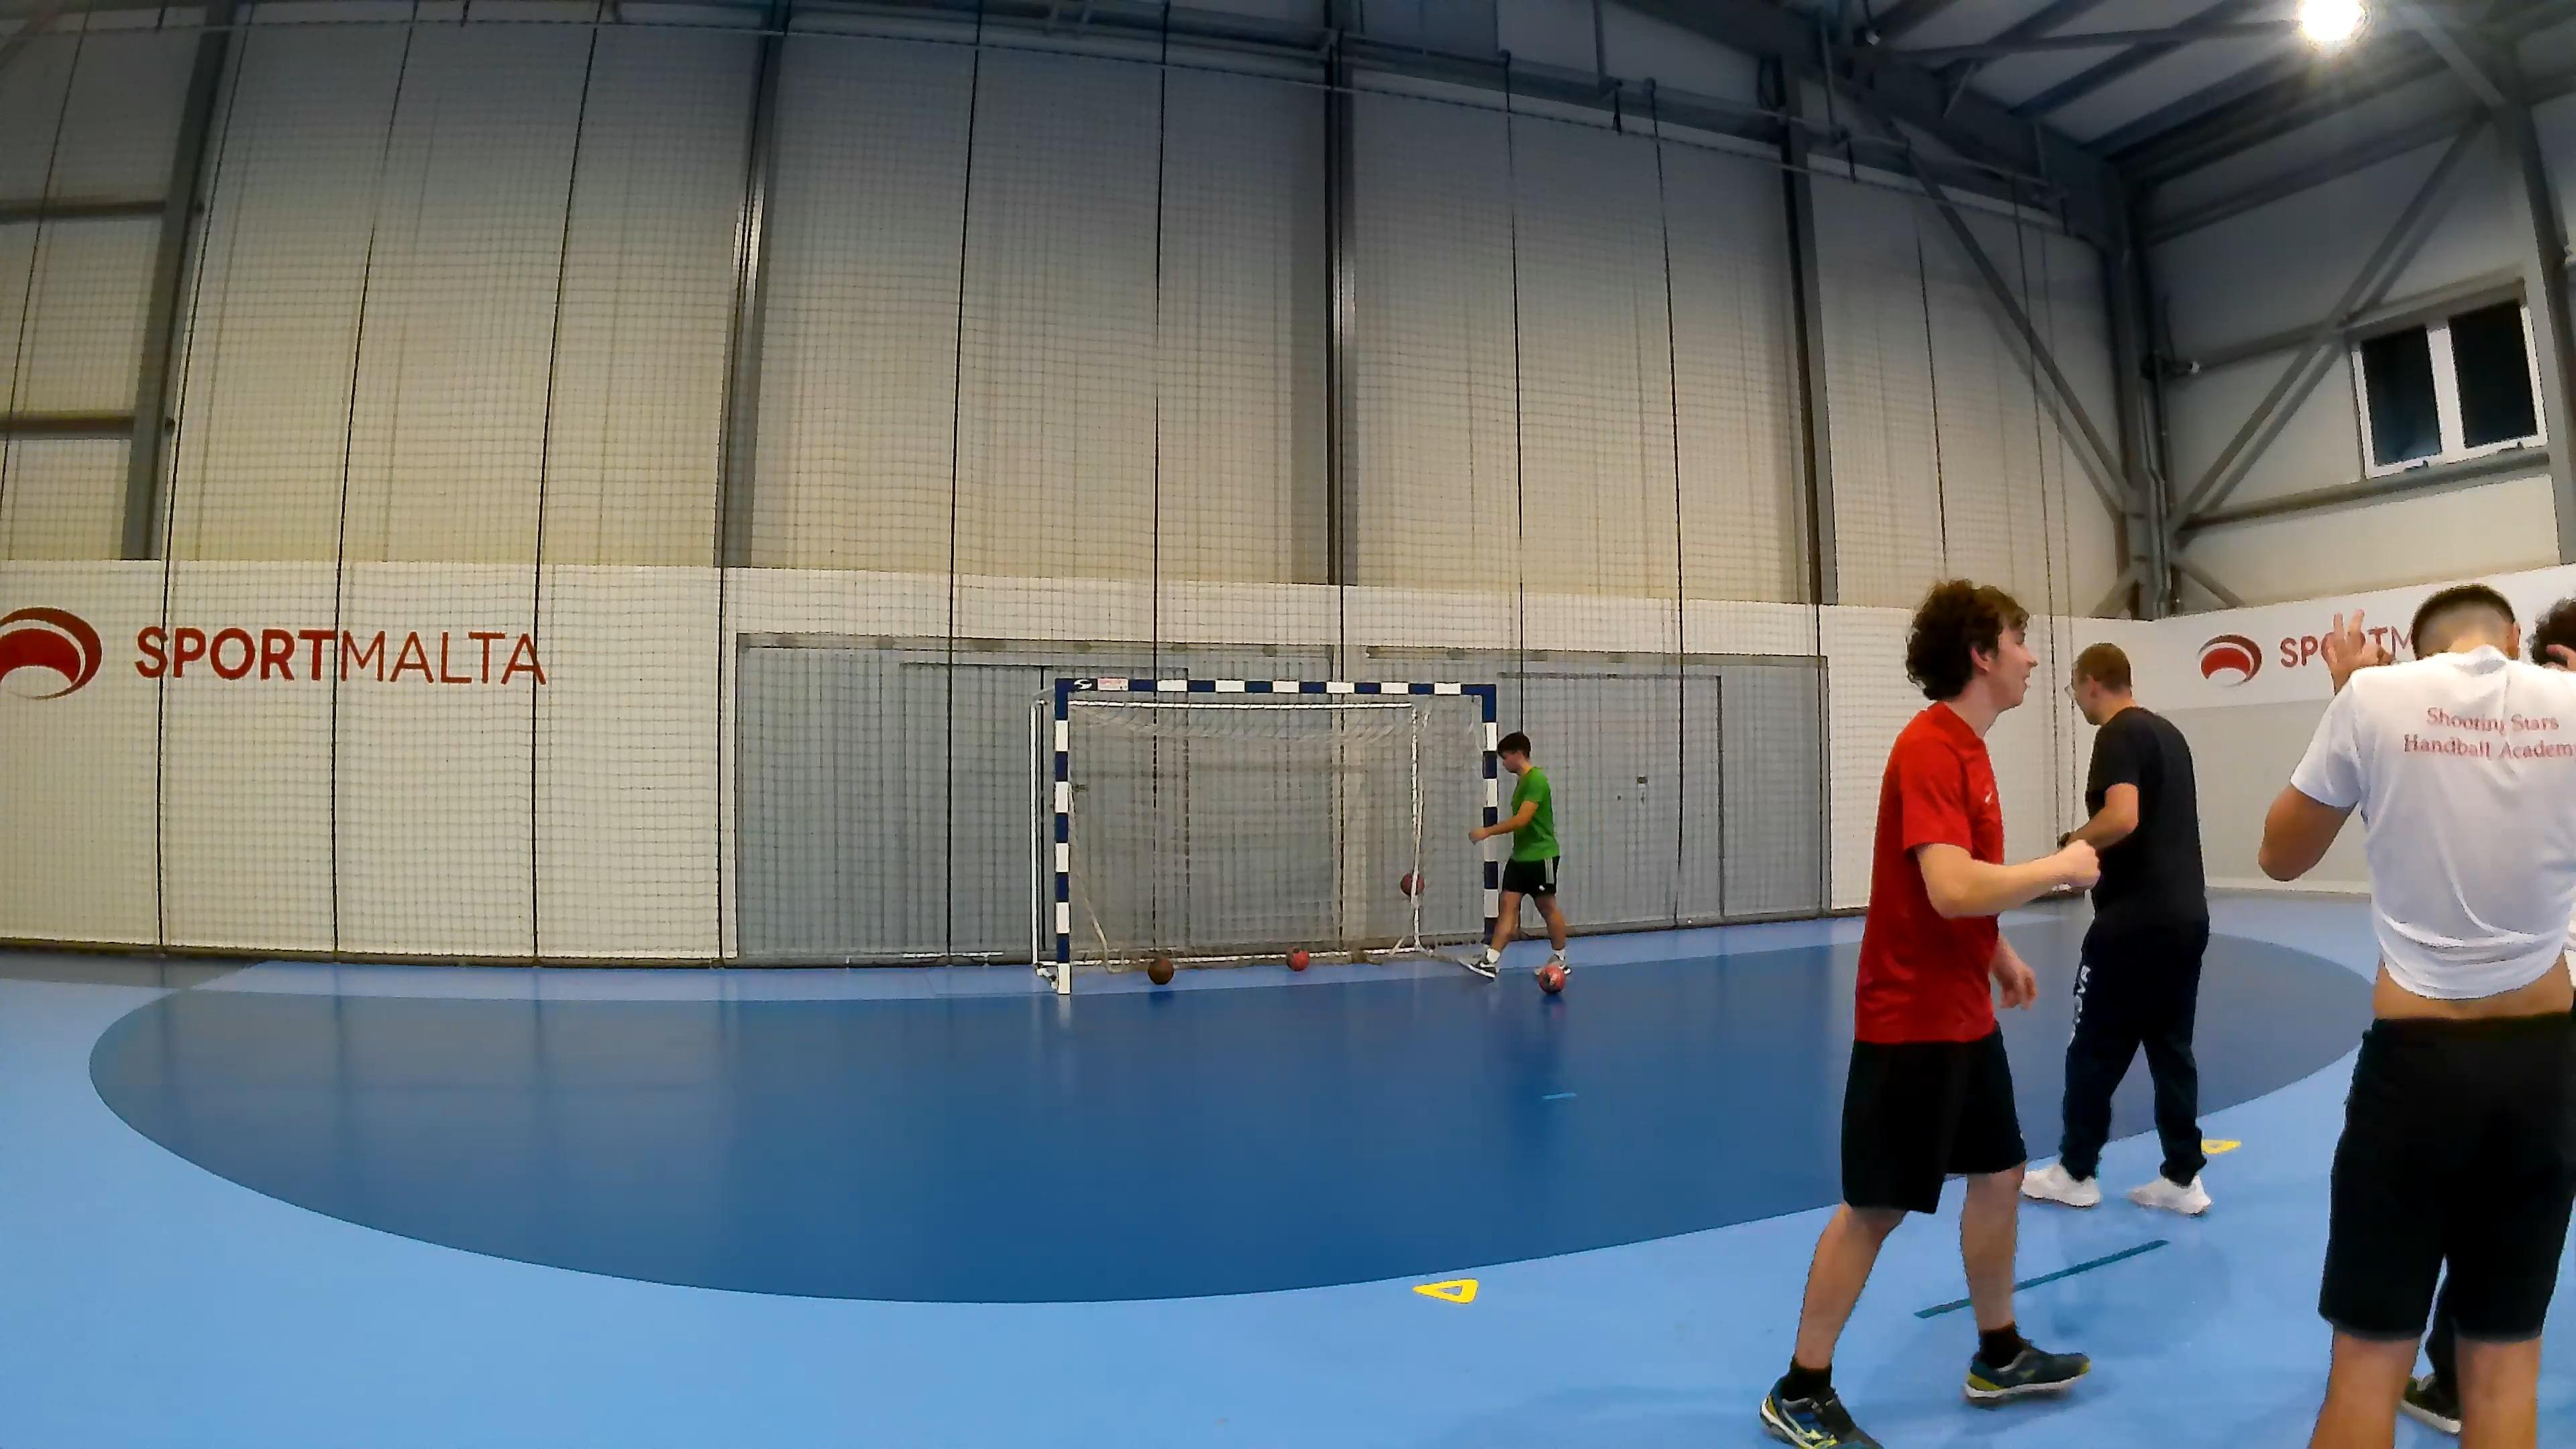handball: (1539, 959, 1571, 998), (1146, 954, 1175, 985), (1284, 947, 1309, 971)
